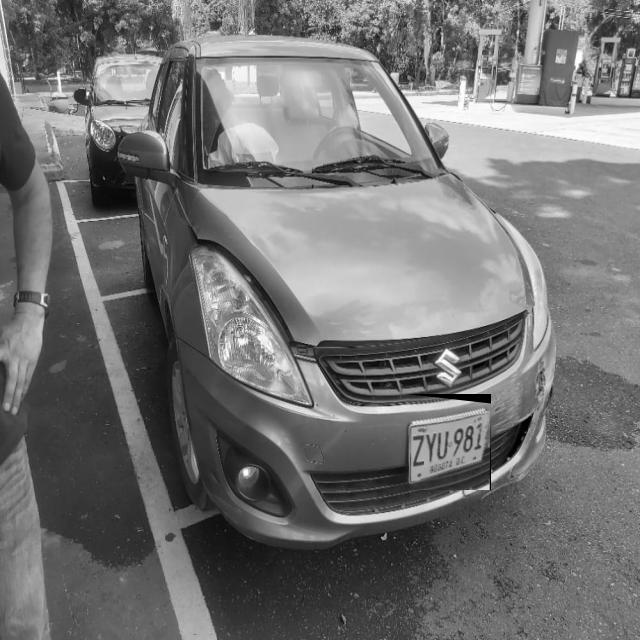plate: (405, 402, 491, 490)
